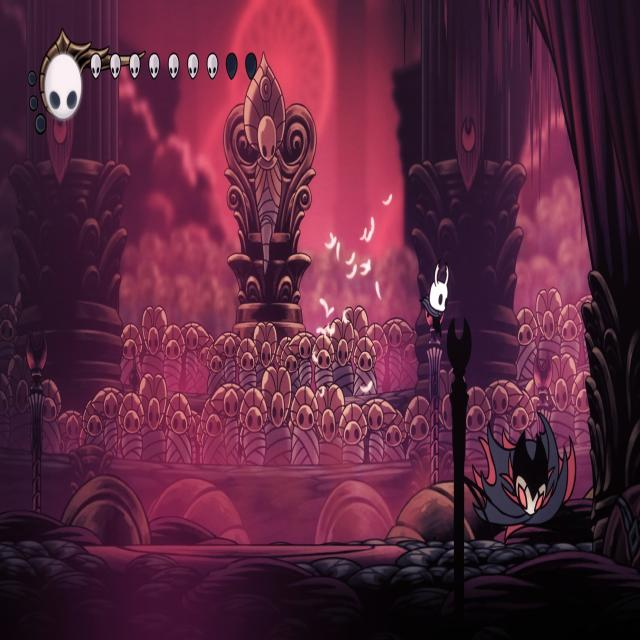Dive Dash: (466, 397, 581, 538)
Player: (420, 256, 451, 335)
